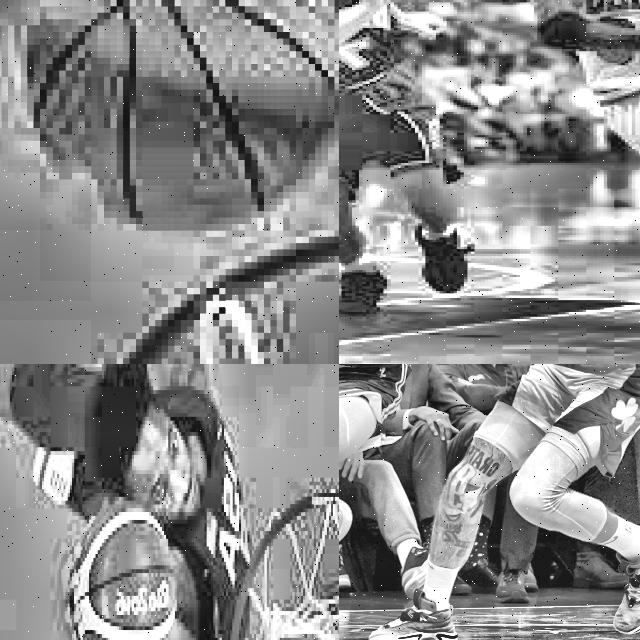Basketball: (27, 0, 339, 230), (72, 501, 175, 640)
